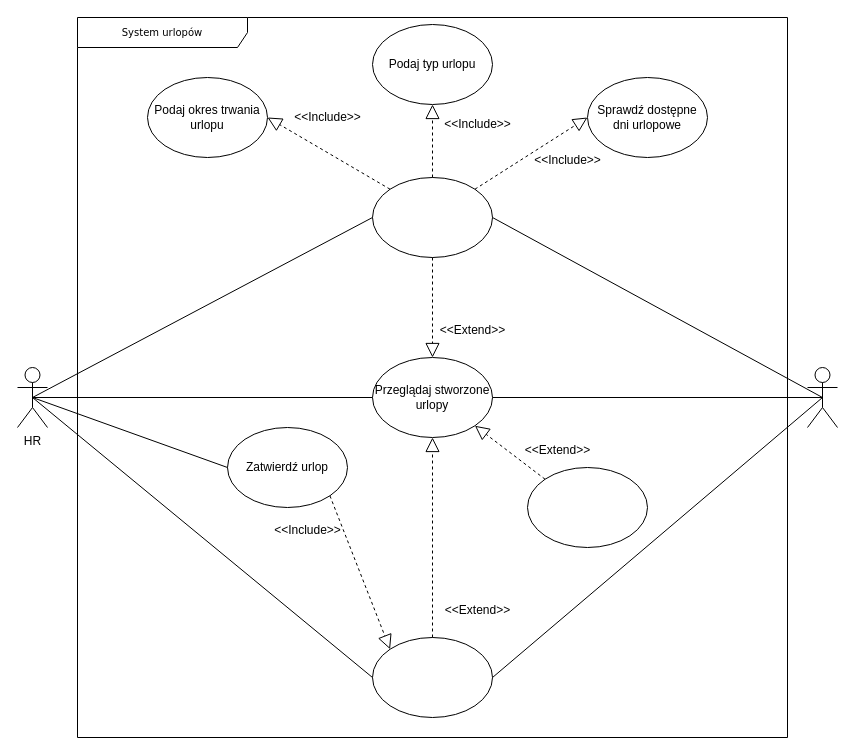
The diagram is 867 pixels wide and 755 high, and some of its shapes have lost their labels. The centre of each missing label's shape, as x and y in pixels:
"Pracownik" belongs at (x=822, y=397).
"Sprawdź status urlopu" belongs at (x=432, y=677).
"Stwórz urlop" belongs at (x=432, y=217).
"Usuń urlop" belongs at (x=587, y=507).
